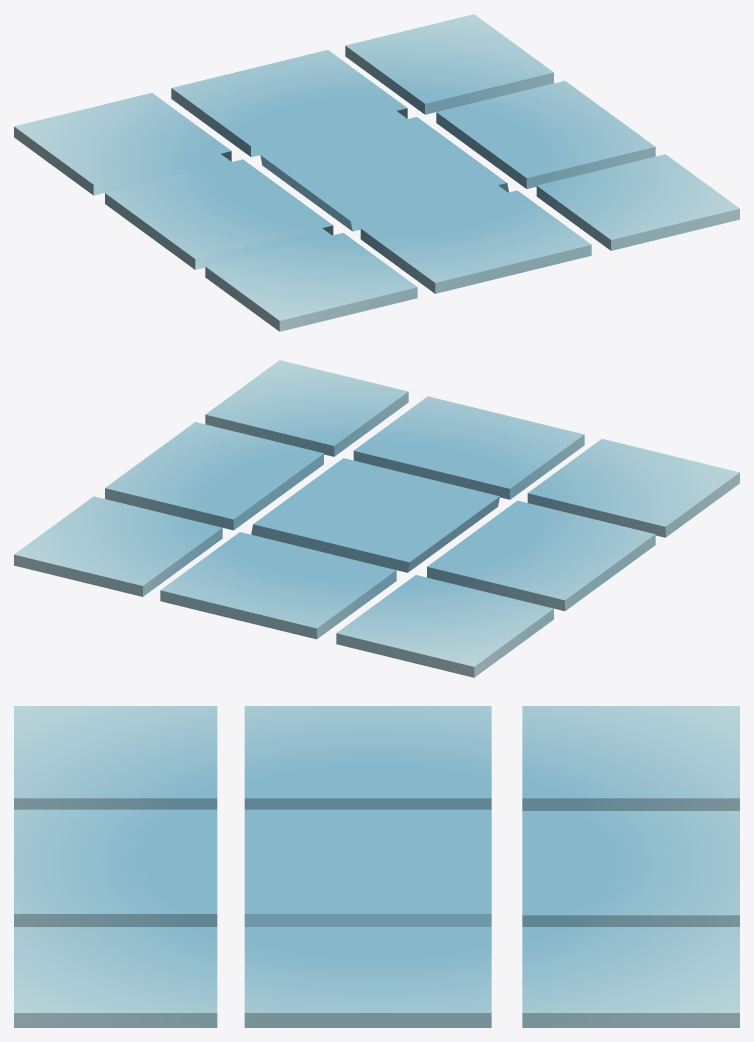
File: IceFloor.fbx
The picture shows the model from 3 angles, top to bottom: view 1: azimuth 30°, elevation 25°; view 2: azimuth 150°, elevation 25°; view 3: azimuth 270°, elevation 25°; orthographic projection. The views are drawn at different scales.
Parts seen in each view (by area): view 1: polySurface9, polySurface7, polySurface4, polySurface8, polySurface3, polySurface2, polySurface6, polySurface1, polySurface5; view 2: polySurface9, polySurface7, polySurface4, polySurface3, polySurface8, polySurface2, polySurface1, polySurface6, polySurface5; view 3: polySurface9, polySurface4, polySurface7, polySurface3, polySurface8, polySurface2, polySurface1, polySurface6, polySurface5.
Part boxes in pixels (bbox=[...]): polySurface9: bbox=[260, 117, 508, 231]; polySurface7: bbox=[171, 50, 407, 157]; polySurface4: bbox=[105, 159, 333, 269]; polySurface8: bbox=[360, 190, 591, 293]; polySurface3: bbox=[436, 80, 655, 188]; polySurface2: bbox=[14, 93, 231, 195]; polySurface6: bbox=[205, 233, 417, 331]; polySurface1: bbox=[345, 14, 553, 114]; polySurface5: bbox=[536, 154, 739, 250]; polySurface9: bbox=[251, 458, 499, 572]; polySurface7: bbox=[160, 532, 396, 639]; polySurface4: bbox=[427, 500, 655, 611]; polySurface3: bbox=[105, 422, 323, 530]; polySurface8: bbox=[353, 396, 584, 499]; polySurface2: bbox=[336, 575, 553, 677]; polySurface1: bbox=[14, 496, 222, 596]; polySurface6: bbox=[527, 439, 739, 537]; polySurface5: bbox=[205, 360, 408, 456]; polySurface9: bbox=[244, 809, 491, 926]; polySurface4: bbox=[244, 706, 491, 809]; polySurface7: bbox=[522, 811, 739, 926]; polySurface3: bbox=[244, 927, 491, 1027]; polySurface8: bbox=[14, 809, 217, 926]; polySurface2: bbox=[522, 706, 739, 810]; polySurface1: bbox=[522, 927, 739, 1027]; polySurface6: bbox=[14, 706, 217, 809]; polySurface5: bbox=[14, 927, 217, 1027].
Bounding box in the file's own units: 24.15 × 0.5482 × 24.15.
1 material, 1 textured.
